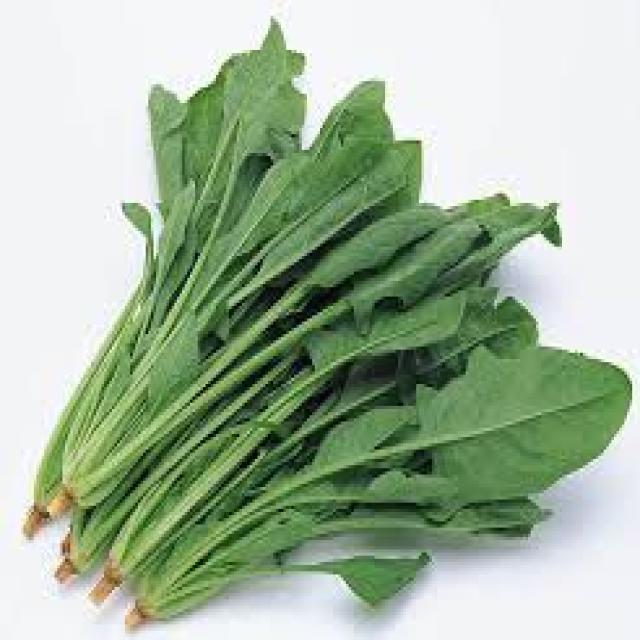spinach: (5, 9, 640, 640)
